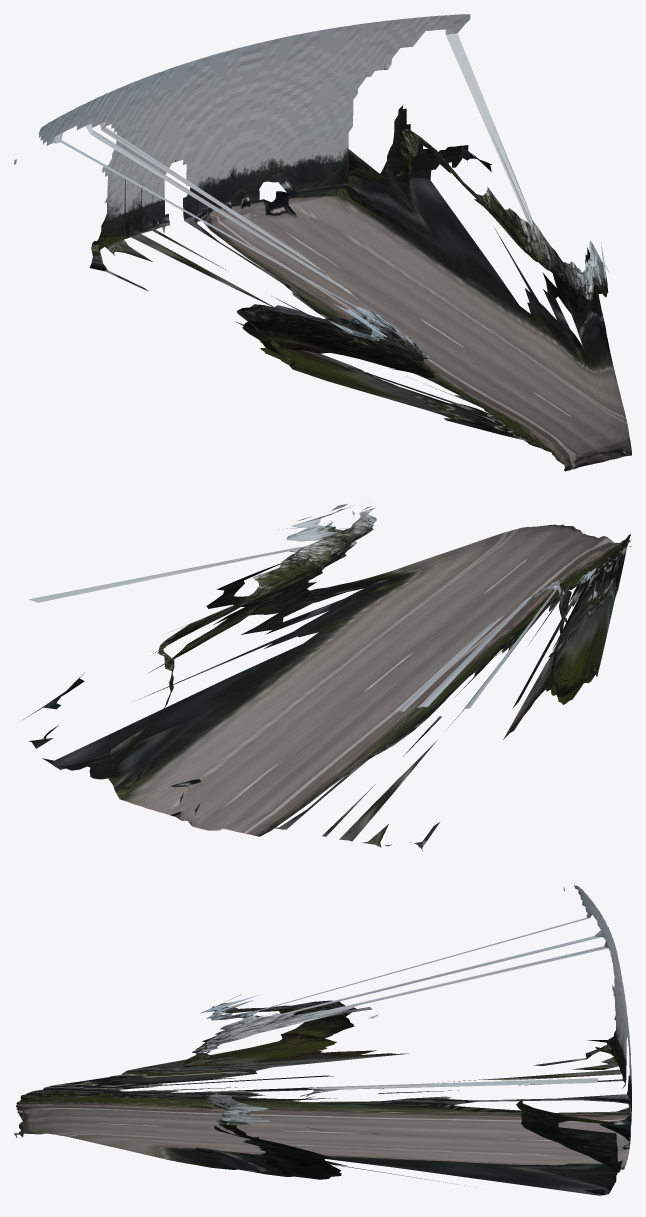
3 views of the same model, one above another, from view 1: azimuth 30°, elevation 25°; view 2: azimuth 150°, elevation 25°; view 3: azimuth 270°, elevation 25° (orthographic). The views are drawn at different scales.
Parts seen in each view (by area): view 1: defaultobject; view 2: defaultobject; view 3: defaultobject.
Part boxes in pixels (x1,y1,x2,y2): defaultobject: [14, 14, 631, 471]; defaultobject: [23, 504, 631, 850]; defaultobject: [14, 885, 631, 1195].
Bounding box in the file's own units: 34.37 × 12.47 × 44.5.
Materials: 1 (1 with a texture image).
